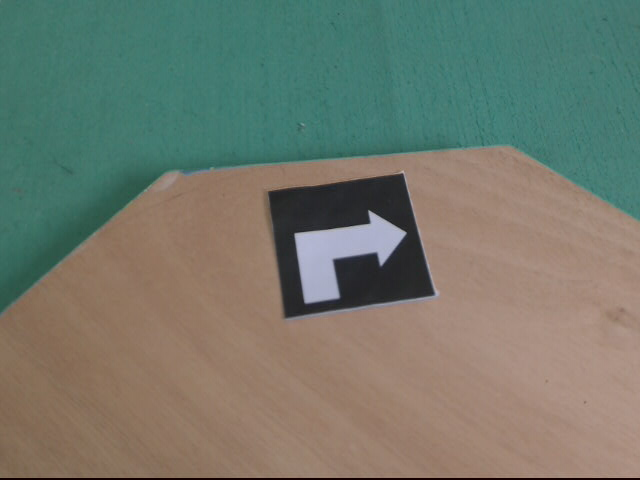right: (267, 169, 441, 321)
